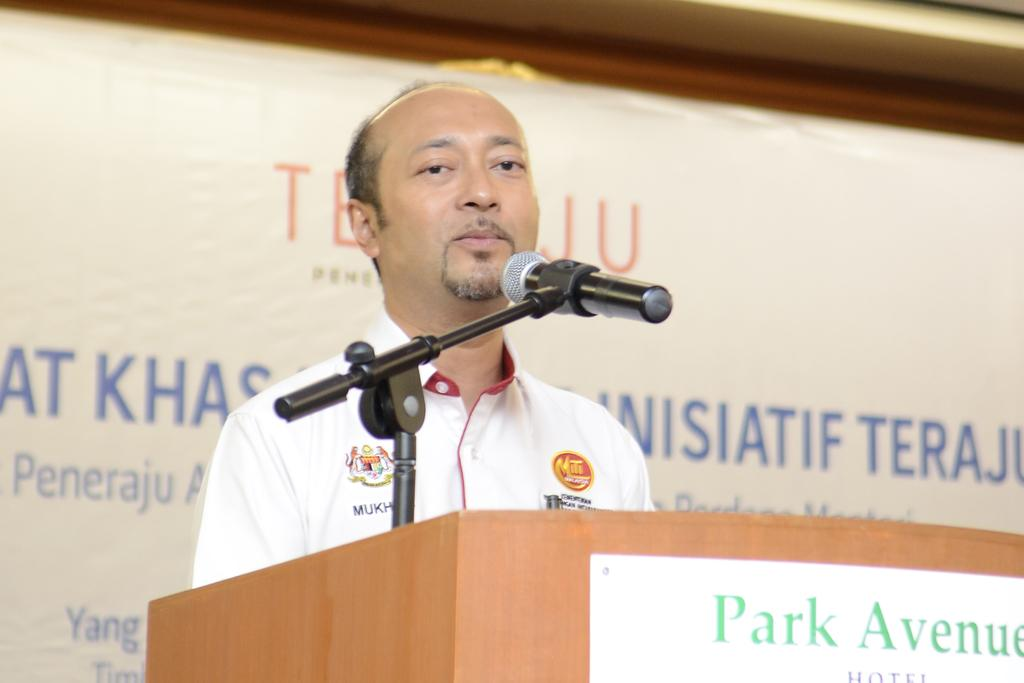Sem Máscara: (373, 94, 537, 299)
